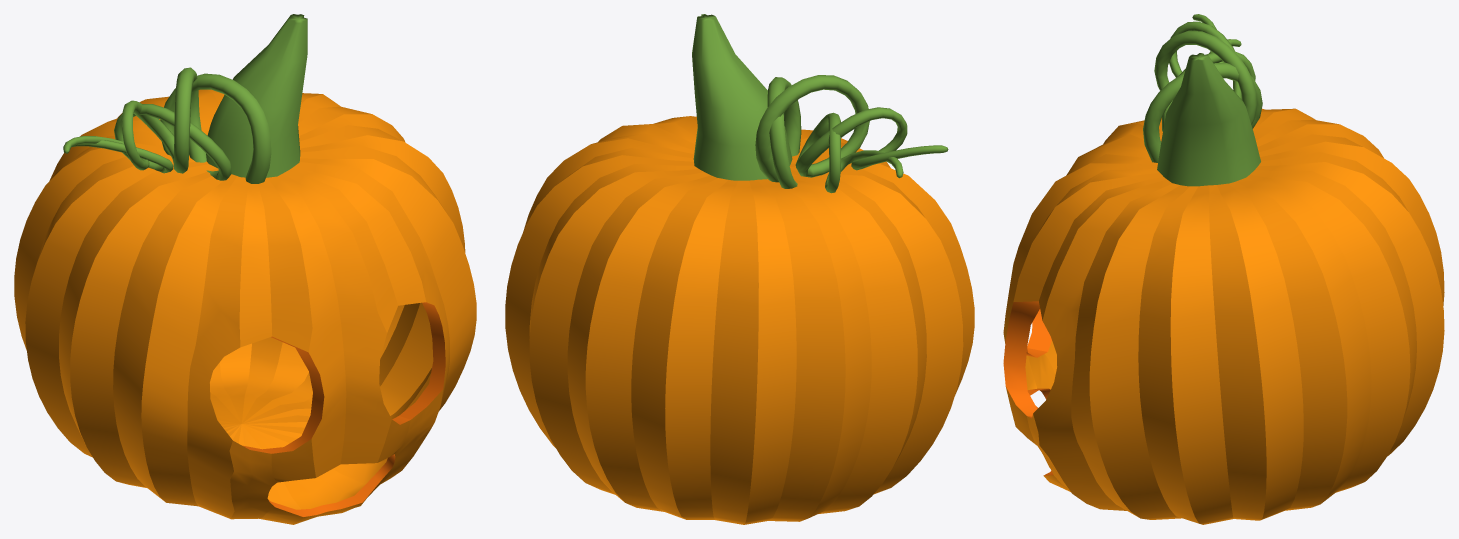
The model's file is bi ngo.fbx.
3 views of the same model, side by side, from view 1: azimuth 30°, elevation 25°; view 2: azimuth 150°, elevation 25°; view 3: azimuth 270°, elevation 25° (orthographic).
Visible parts, largest first — view 1: bi_ngo; view 2: bi_ngo; view 3: bi_ngo.
Boxes of the visible parts, x1=… form: bi_ngo: x1=14, y1=14, x2=476, y2=524; bi_ngo: x1=505, y1=14, x2=974, y2=524; bi_ngo: x1=1003, y1=14, x2=1444, y2=524.
Bounding box in the file's own units: 182 × 198 × 176.
